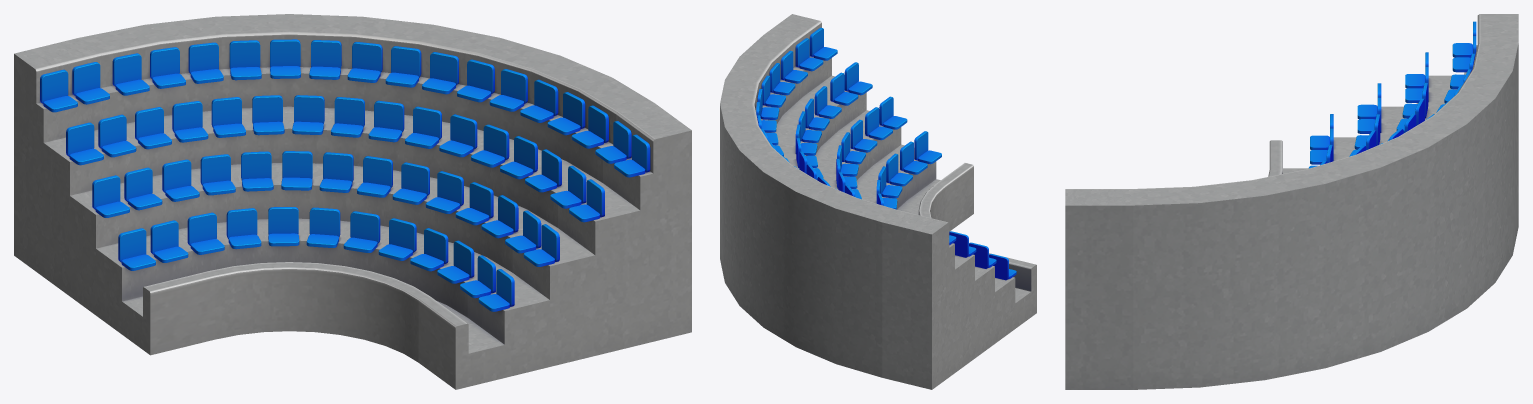
File: tribune_corner.fbx
The picture shows the model from 3 angles, left to right: view 1: azimuth 30°, elevation 25°; view 2: azimuth 150°, elevation 25°; view 3: azimuth 270°, elevation 25°; orthographic projection. The views are drawn at different scales.
Parts seen in each view (by area): view 1: tribune_corner, tribune_corner_chair; view 2: tribune_corner, tribune_corner_chair; view 3: tribune_corner, tribune_corner_chair.
Boxes of the visible parts, x1,y1,x2,y2 form: tribune_corner: (14, 14, 691, 389); tribune_corner_chair: (40, 39, 650, 311); tribune_corner: (720, 14, 1036, 389); tribune_corner_chair: (756, 27, 1016, 280); tribune_corner: (1065, 14, 1518, 389); tribune_corner_chair: (1308, 21, 1476, 168).
Size of the model in its own units: 666 by 299 by 666.
